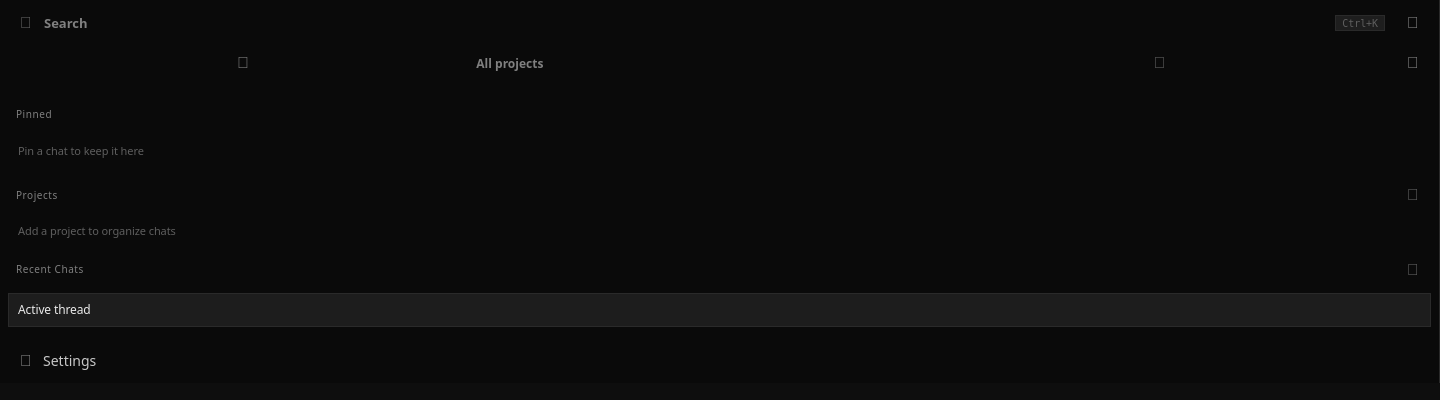
ProjectsRail session actions › keeps archived threads reachable for recovery outside the footer
The width and height of the screenshot is (1440, 400).
Check: the button titled "Active thread" is shown, box 9,294 -> 1430,326
Step 1. Click the button " All projects " → (510, 63), box 10,47 -> 1393,79
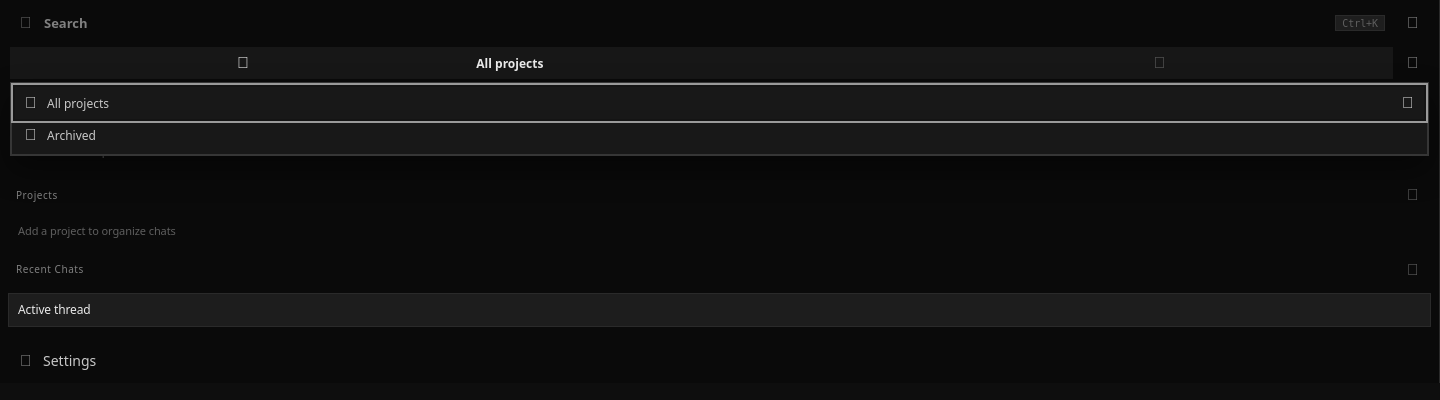
Step 2. Click the menu item " Archived" → (71, 135), box 15,119 -> 1424,151
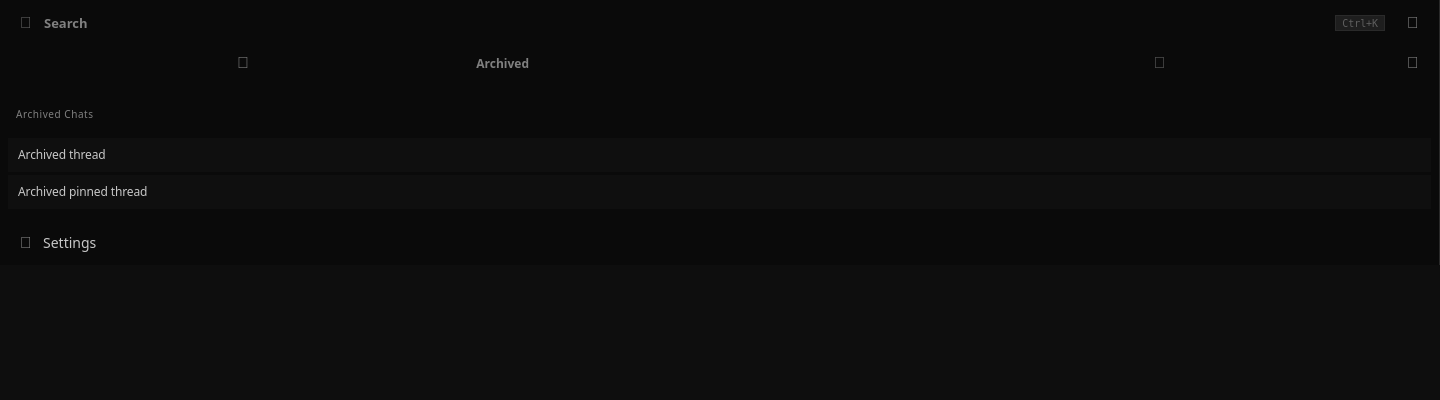
Check: the button " Archived " is collapsed, box 10,47 -> 1393,79
Check: the button titled "Archived thread" is shown
Check: the button titled "Archived pinned thread" is shown, box 9,176 -> 1430,208
Step 3. Right-click the element titled "Archived thread" → (720, 155), box 8,138 -> 1431,172
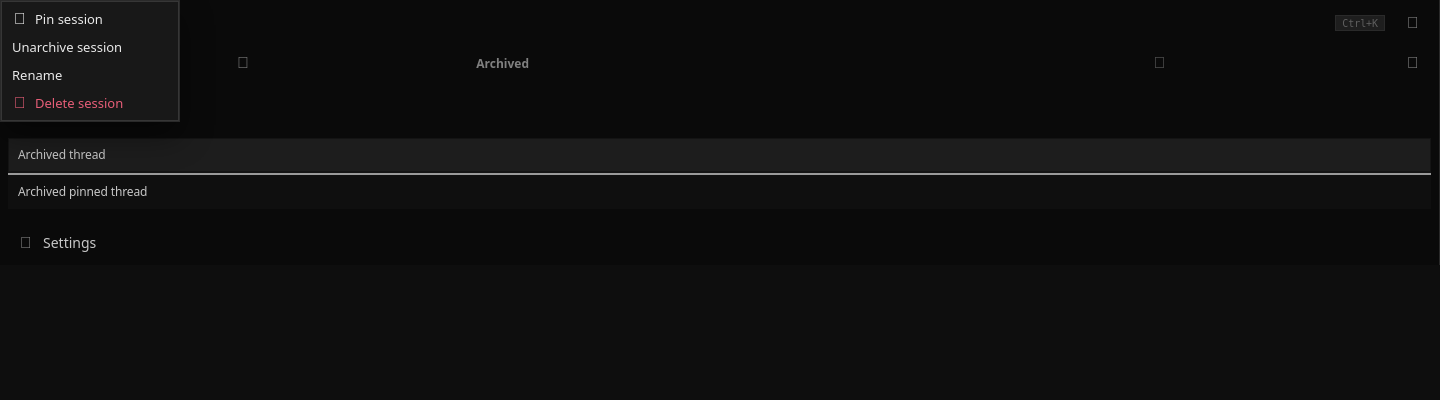
Check: the menu item "Unarchive session" is shown, box 5,33 -> 175,61
